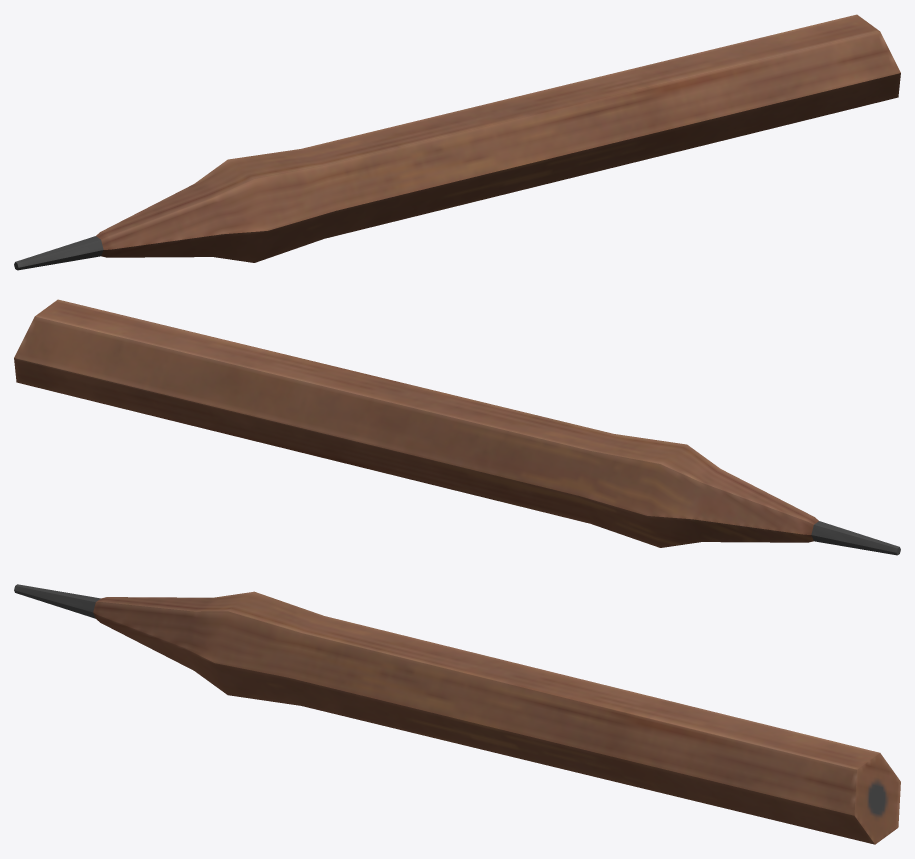
The model's file is SM_PaperPen_01.fbx.
3 renders of one model, top to bottom at view 1: azimuth 30°, elevation 25°; view 2: azimuth 150°, elevation 25°; view 3: azimuth 330°, elevation 25°, orthographic.
Visible parts, largest first — view 1: SM_PaperPen_01_LOD0; view 2: SM_PaperPen_01_LOD0; view 3: SM_PaperPen_01_LOD0.
Boxes of the visible parts, left/top/right/bottom form: SM_PaperPen_01_LOD0: left=14, top=14, right=900, bottom=270; SM_PaperPen_01_LOD0: left=14, top=299, right=900, bottom=555; SM_PaperPen_01_LOD0: left=14, top=584, right=900, bottom=844.
Bounding box in the file's own units: 25.68 × 2.73 × 2.37.
1 material, 1 textured.
